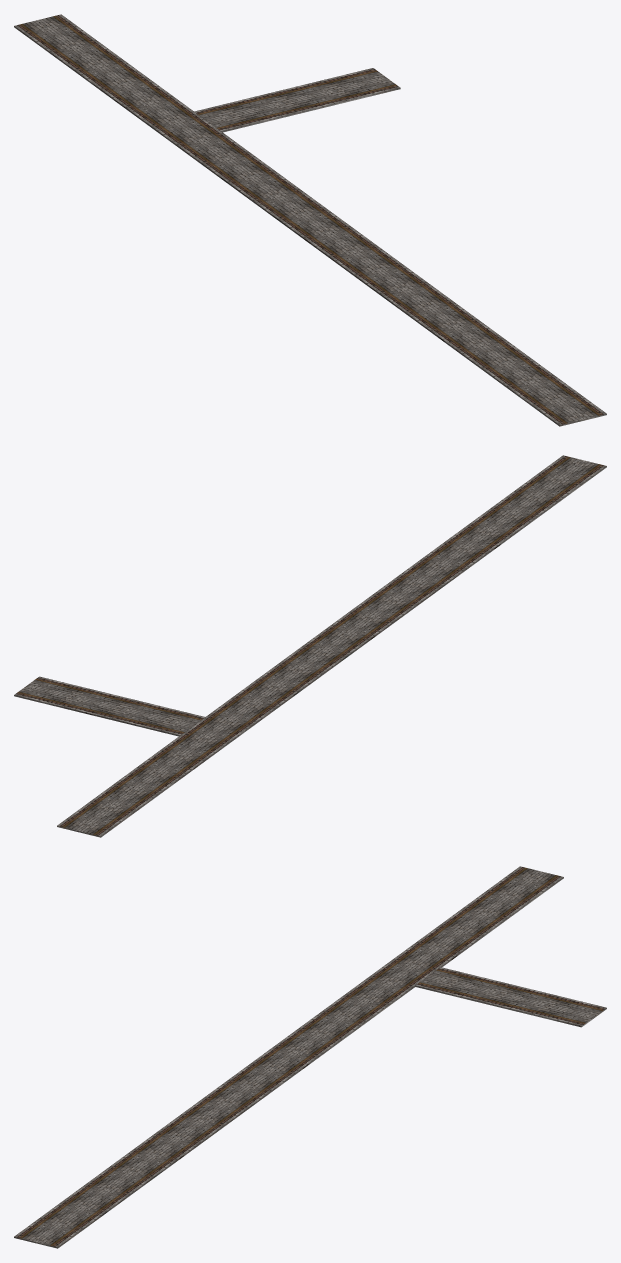
The model's file is SongCity_road.FBX.
3 views of the same model, one above another, from view 1: azimuth 30°, elevation 25°; view 2: azimuth 150°, elevation 25°; view 3: azimuth 330°, elevation 25° (orthographic). The views are drawn at different scales.
Visible parts, largest first — view 1: Object001; view 2: Object001; view 3: Object001.
Part boxes in pixels (<box>): Object001: <box>14,14,606,426</box>; Object001: <box>14,455,606,837</box>; Object001: <box>14,866,606,1248</box>.
Size of the model in its own units: 2648 by 14.96 by 11052.
Materials: 1 (1 with a texture image).
